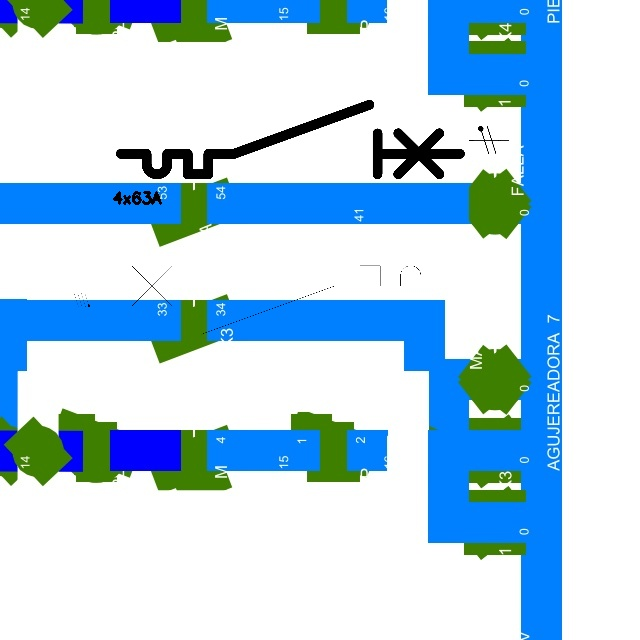interruptor_termomagnetico: (112, 96, 468, 183), (102, 257, 454, 343)
